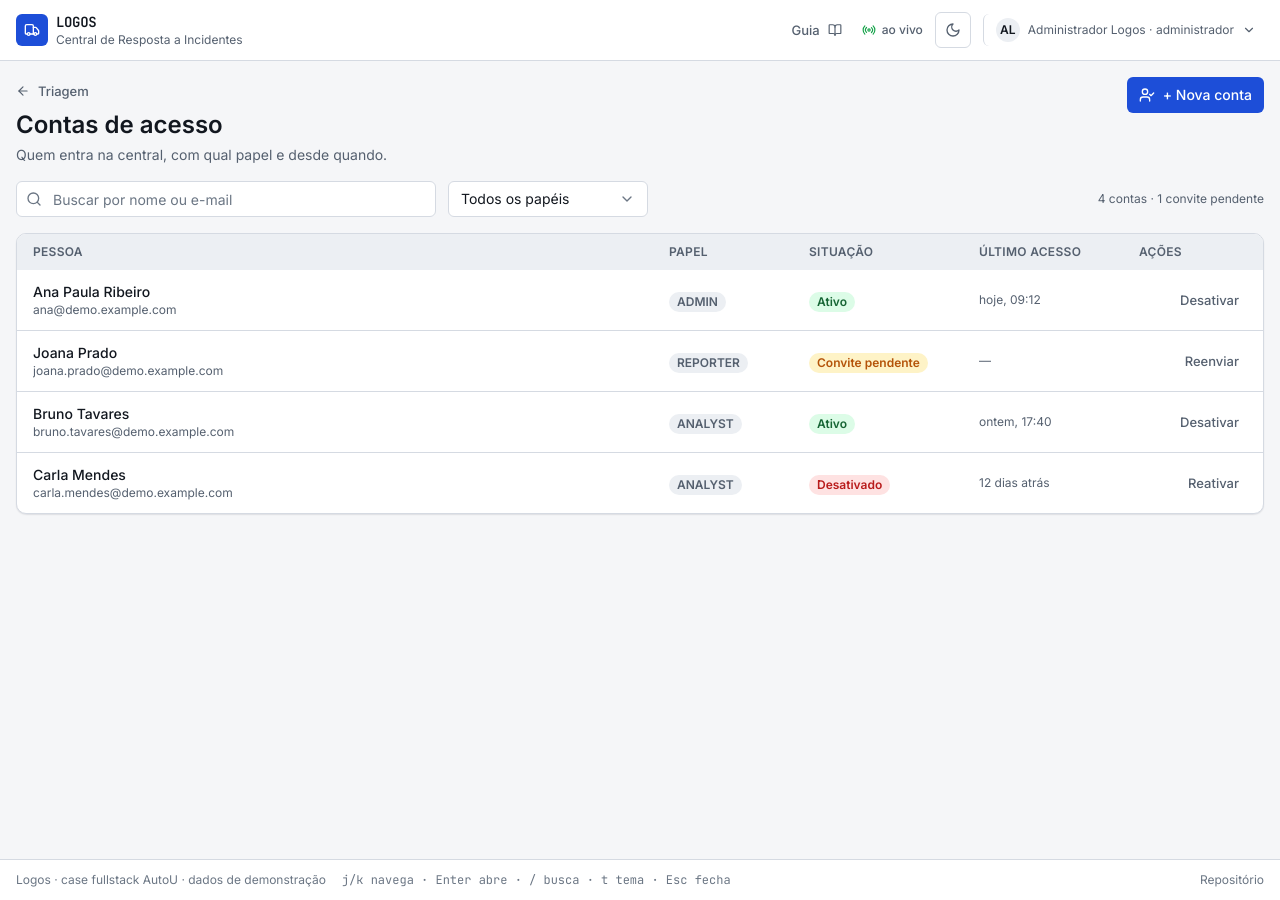
Scenario: AccountsScreen — nova conta › conta criada com e-mail não entregue: fecha o painel e manda reenviar
Click the button "+ Nova conta" at (1195, 95), box left=1127, top=77, right=1264, bottom=113
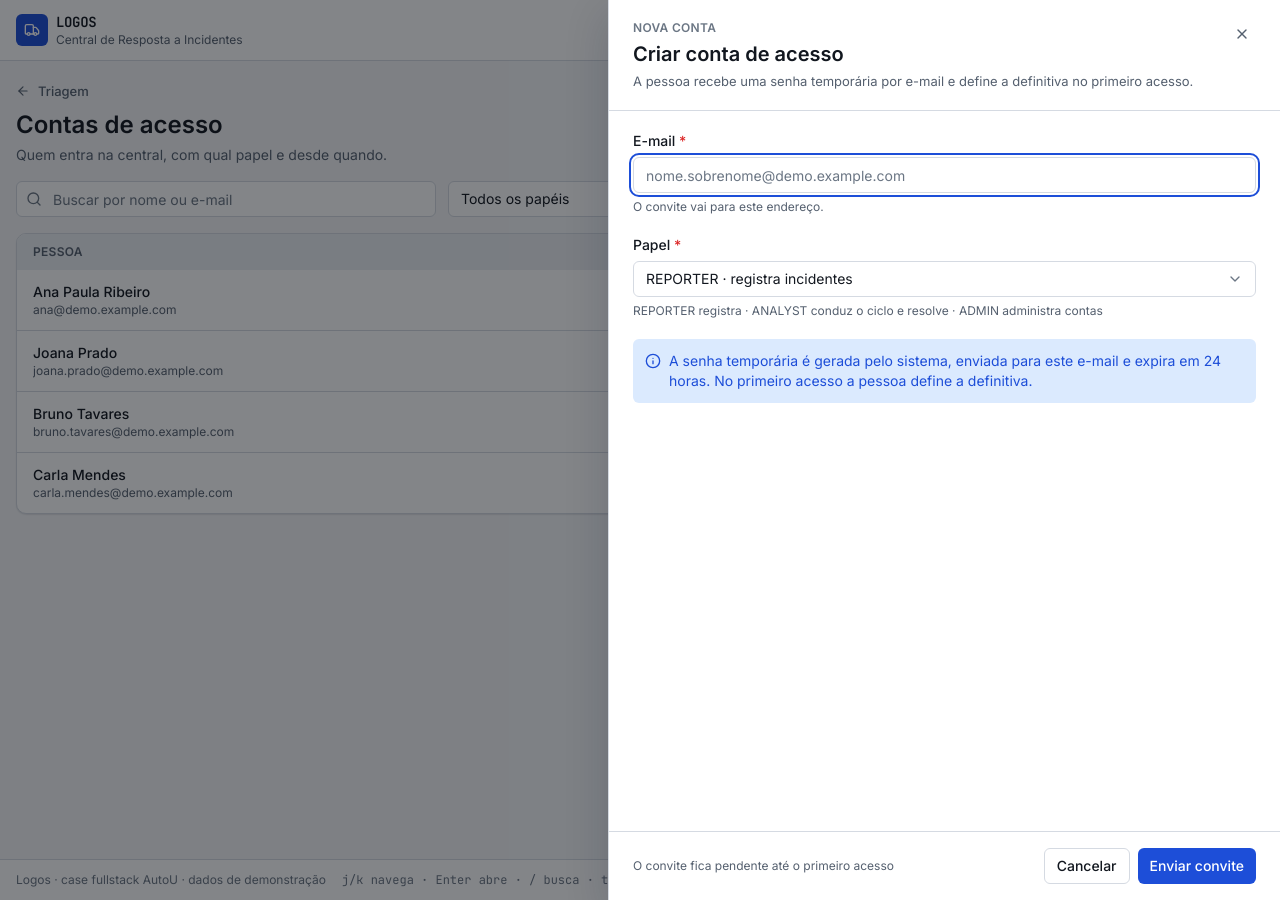
Type "novo.analista@parceiro.com.br" into the field labelled "E-mail *" at (944, 175), box left=633, top=157, right=1256, bottom=193
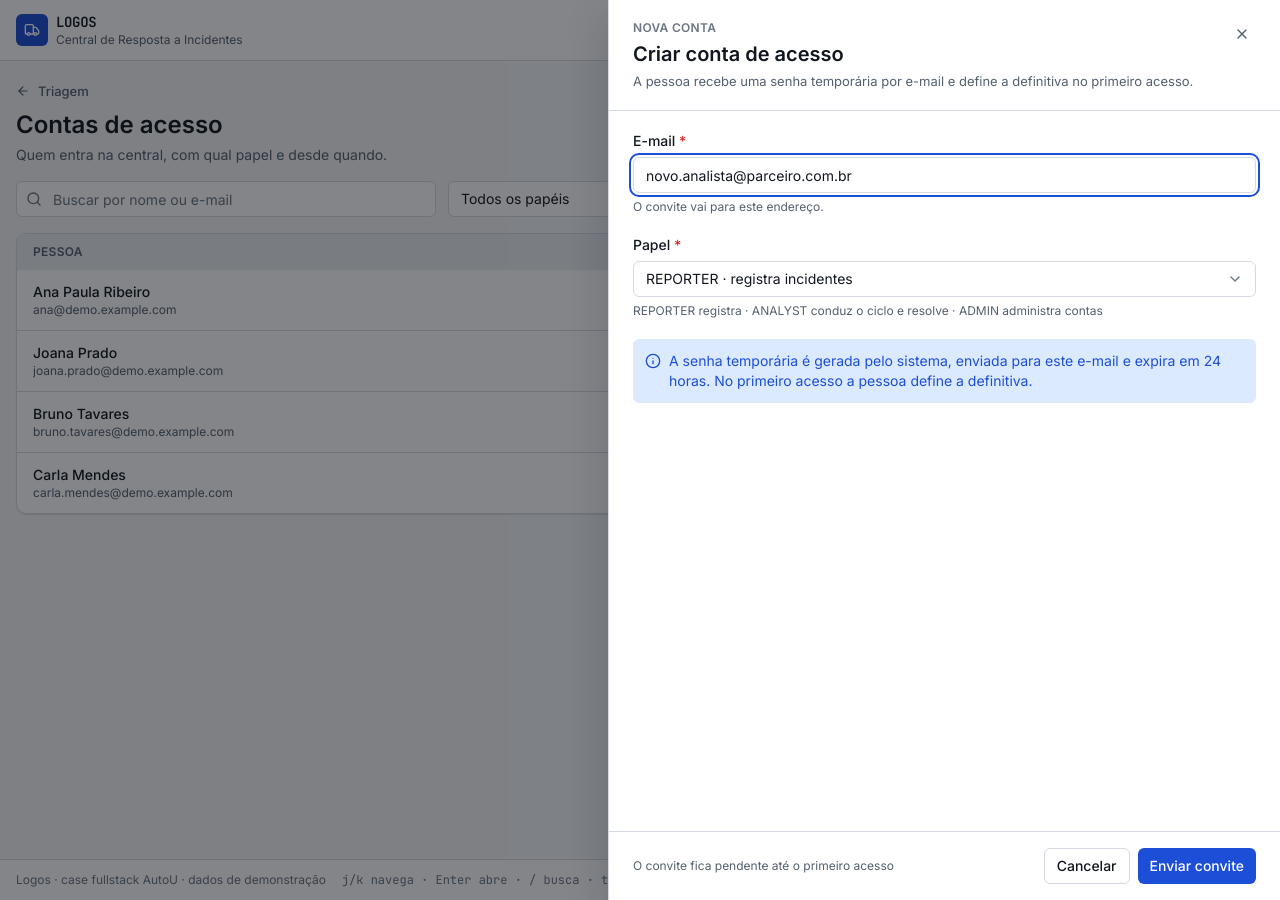
Click the button "Enviar convite" at (1197, 866), box left=1138, top=848, right=1256, bottom=884
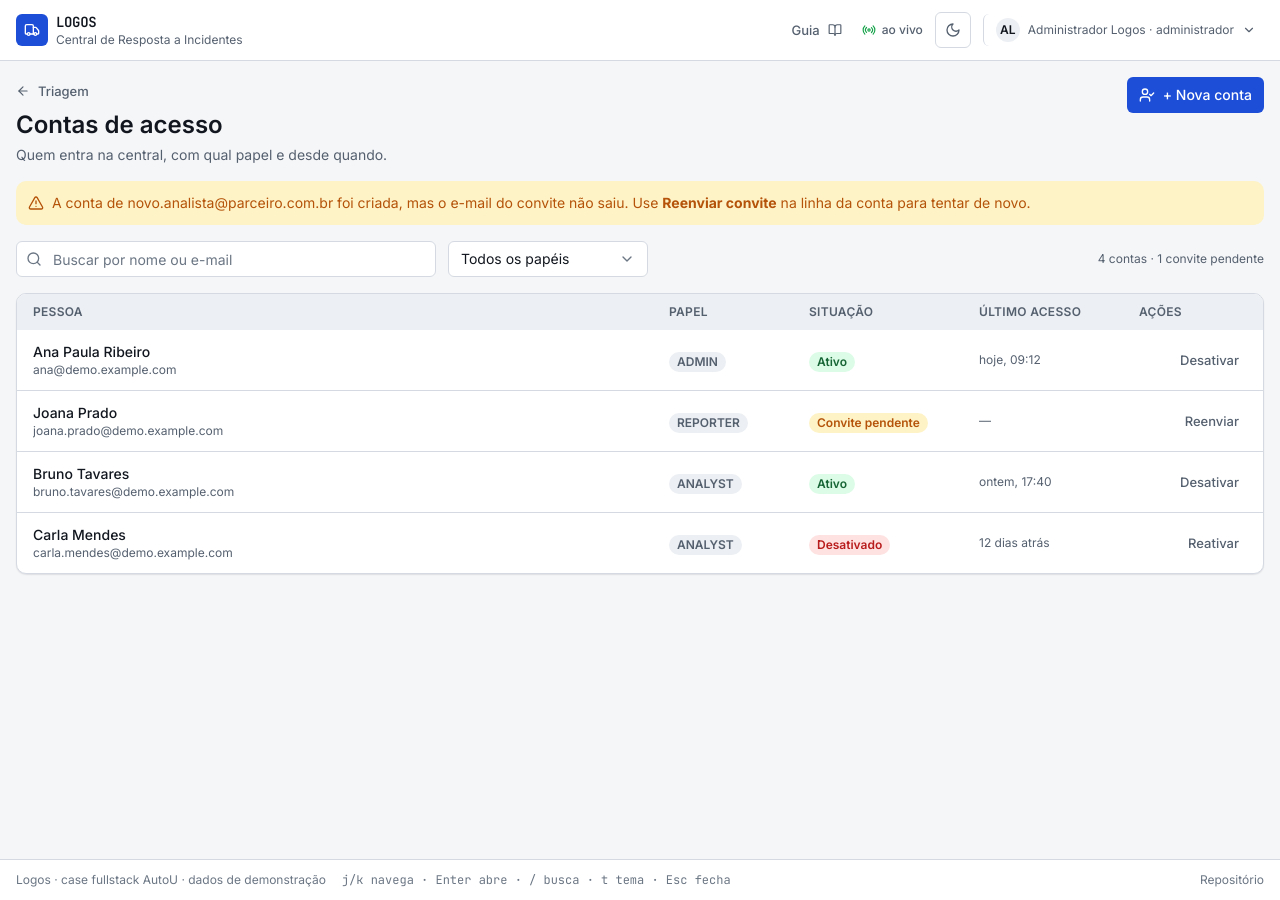
Now the message with test id "invite-delivery-failed-alert" shows "novo.analista@parceiro.com.br", box left=127, top=194, right=333, bottom=211
Now the message with test id "invite-delivery-failed-alert" shows "o e-mail do convite não saiu", box left=333, top=194, right=658, bottom=211
Now the message with test id "invite-delivery-failed-alert" shows "Reenviar convite", box left=662, top=194, right=777, bottom=211
